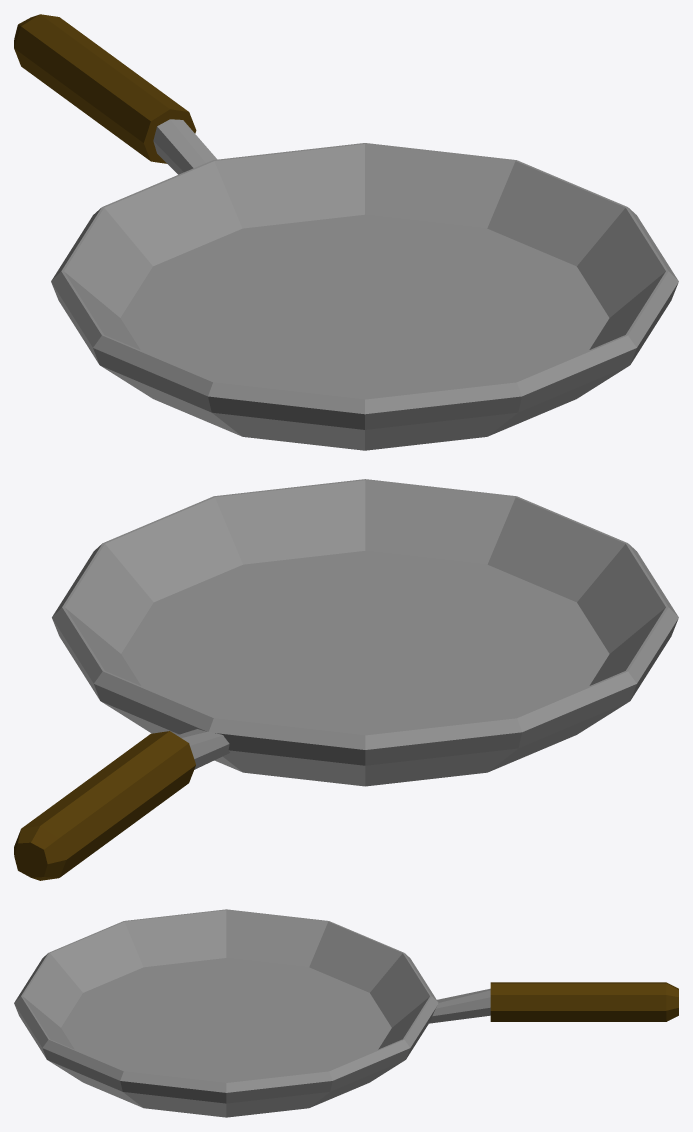
Rendered from Pan.fbx.
The picture shows the model from 3 angles, top to bottom: view 1: azimuth 30°, elevation 25°; view 2: azimuth 150°, elevation 25°; view 3: azimuth 270°, elevation 25°; orthographic projection. The views are drawn at different scales.
Parts seen in each view (by area): view 1: Pan1; view 2: Pan1; view 3: Pan1.
Boxes of the visible parts, <box> form: Pan1: <box>14,14,678,450</box>; Pan1: <box>14,479,678,880</box>; Pan1: <box>14,909,678,1117</box>.
Bounding box in the file's own units: 0.4912 × 0.082 × 0.7687.
